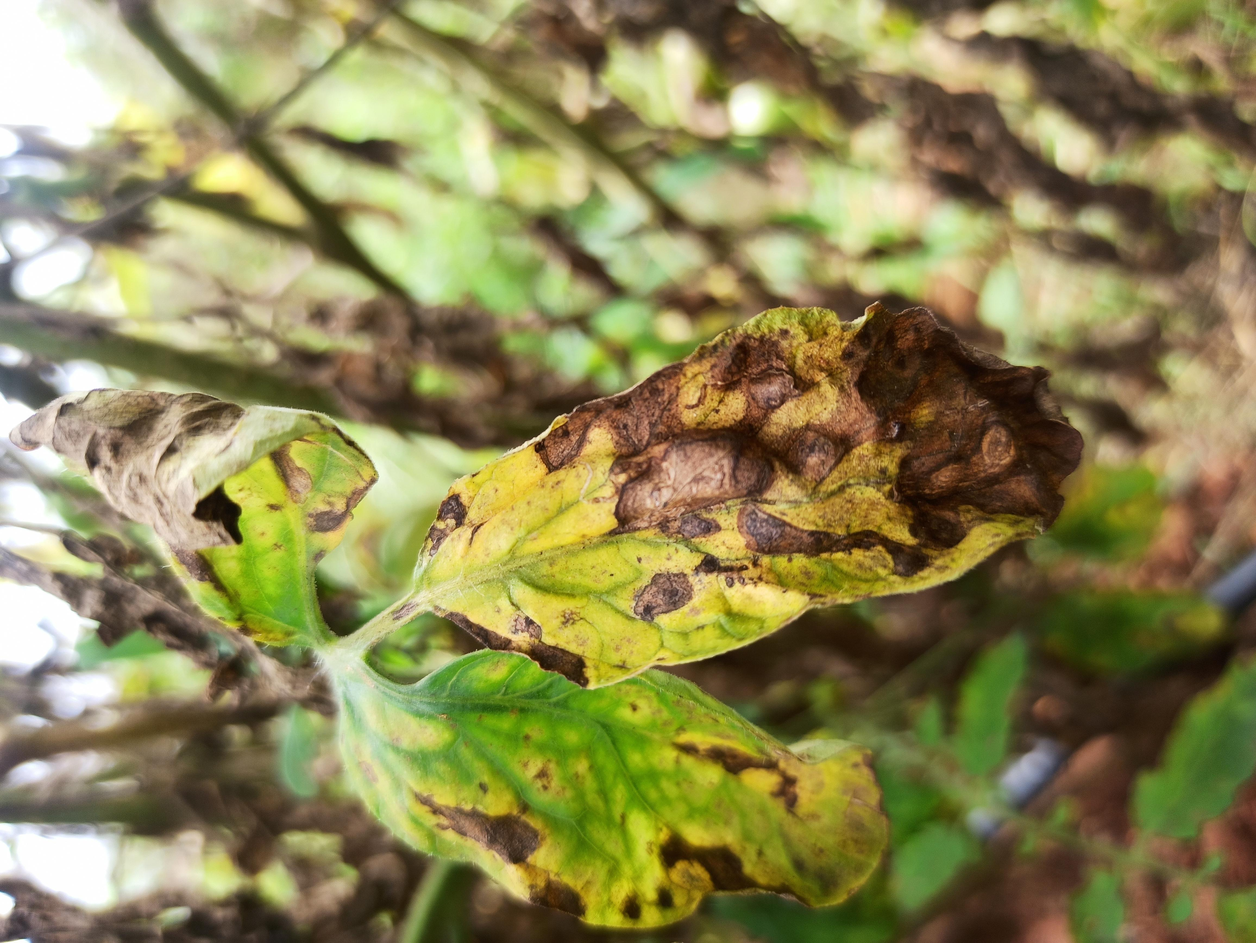Early Blight: (334, 312, 864, 815), (0, 255, 390, 662), (396, 1, 745, 288)
